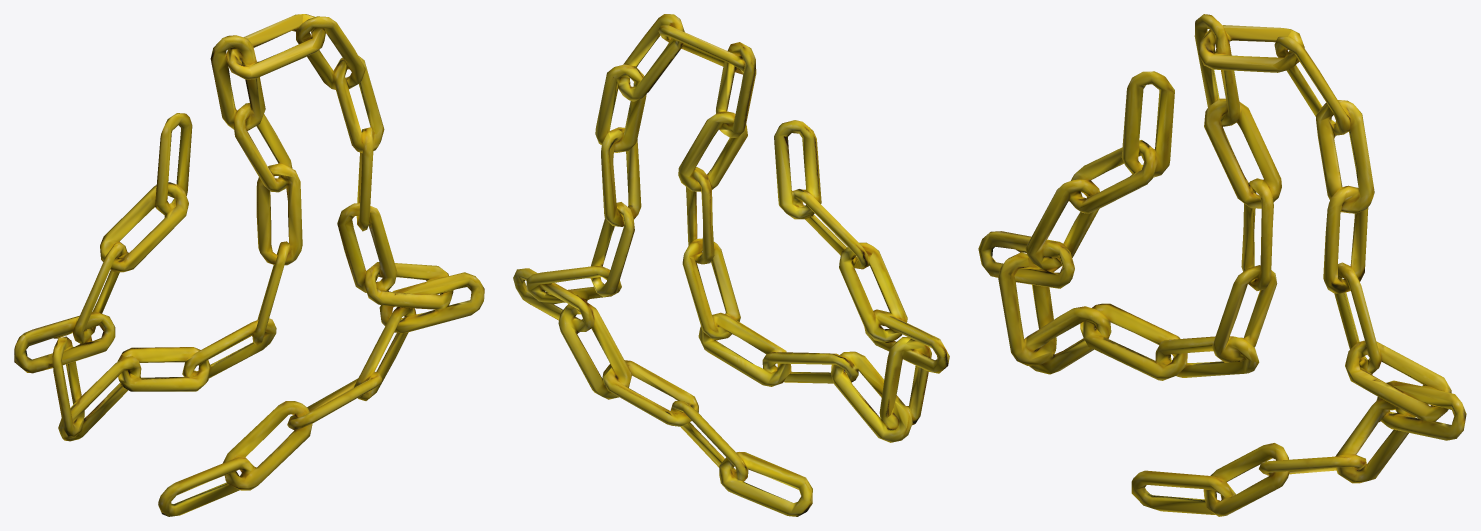
3 renders of one model, left to right at view 1: azimuth 30°, elevation 25°; view 2: azimuth 150°, elevation 25°; view 3: azimuth 330°, elevation 25°, orthographic. The views are drawn at different scales.
Parts seen in each view (by area): view 1: textured.063; view 2: textured.063; view 3: textured.063.
Part boxes in pixels (x1,y1,x2,y2): textured.063: (14, 14, 484, 516); textured.063: (513, 14, 949, 516); textured.063: (978, 14, 1466, 516).
Size of the model in its own units: 0.3105 by 0.3075 by 0.0248.
1 material, 1 textured.
